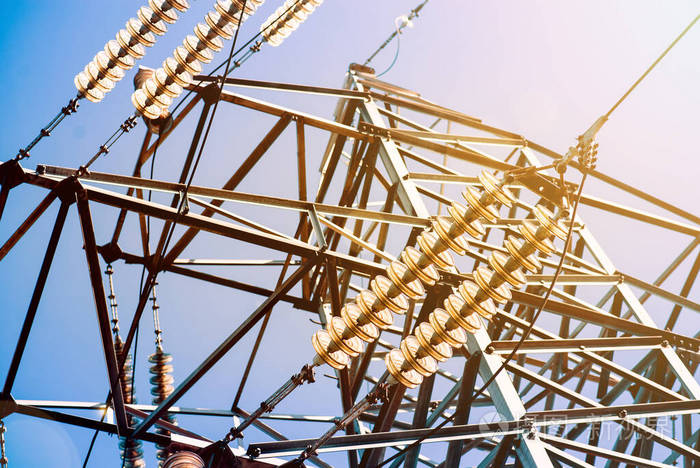insulator: (310, 169, 571, 389), (75, 1, 258, 120), (110, 340, 179, 468), (259, 1, 324, 42)
